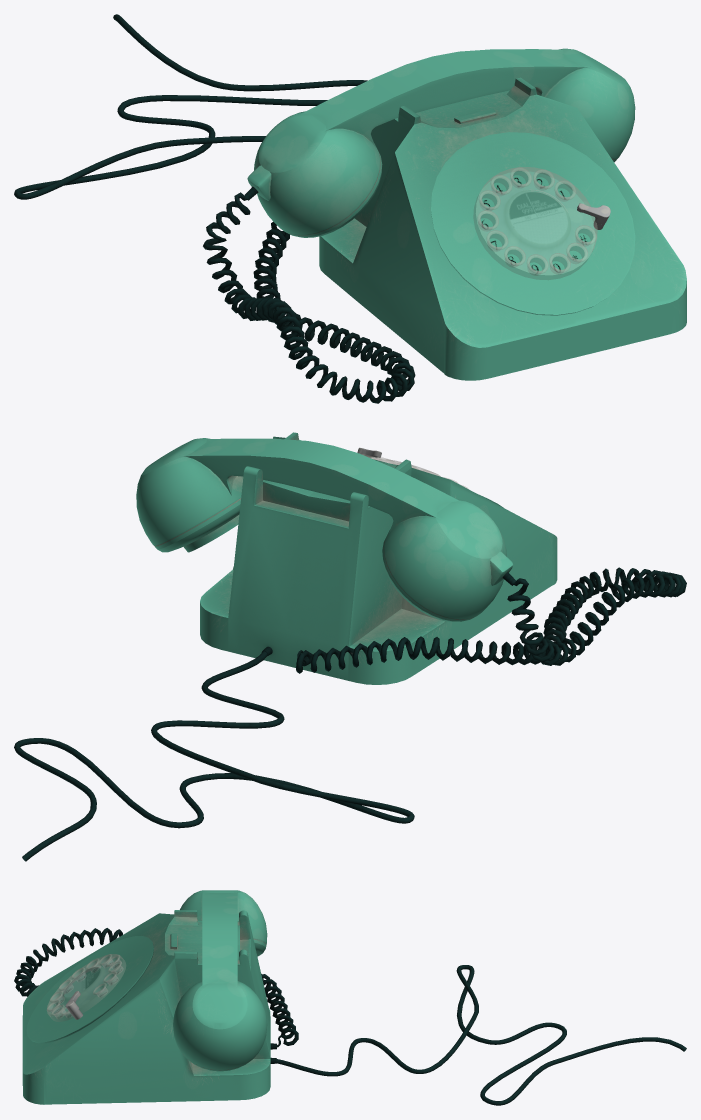
3 views of the same model, one above another, from view 1: azimuth 30°, elevation 25°; view 2: azimuth 150°, elevation 25°; view 3: azimuth 270°, elevation 25° (orthographic). The views are drawn at different scales.
Visible parts, largest first — view 1: phone_low.001, phone_low.002, sellphone_low.002, cable_low.002, small_low.029; view 2: phone_low.001, sellphone_low.002, cable_low.002; view 3: phone_low.001, sellphone_low.002, cable_low.002, phone_low.002, small_low.029.
Part boxes in pixels (x1,y1,x2,y2): phone_low.001: [319, 77, 686, 380]; phone_low.002: [431, 132, 635, 315]; sellphone_low.002: [244, 48, 635, 237]; cable_low.002: [14, 14, 415, 403]; small_low.029: [454, 108, 610, 279]; phone_low.001: [200, 432, 557, 684]; sellphone_low.002: [136, 438, 515, 621]; cable_low.002: [14, 567, 686, 861]; phone_low.001: [22, 910, 270, 1104]; sellphone_low.002: [173, 890, 267, 1071]; cable_low.002: [14, 928, 686, 1105]; phone_low.002: [26, 936, 153, 1043]; small_low.029: [47, 933, 276, 1063].
Bounding box in the file's own units: 2.34 × 0.972 × 4.19.
2 materials, 2 textured.
